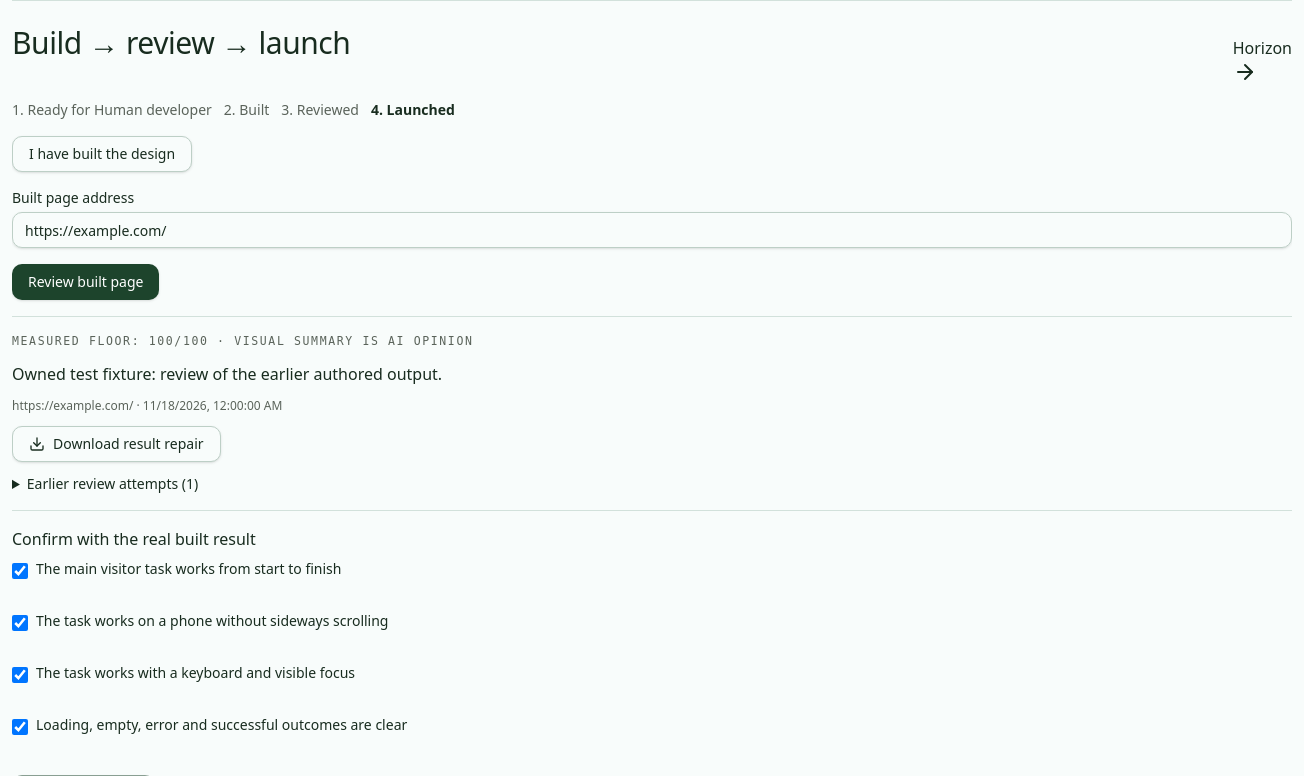
authored content-flow evidence boundary › records that same successful critique response when the output identity stays current
Click the button "Review built page" at coordinates (86, 282), box x1=12 y1=264 x2=160 y2=300
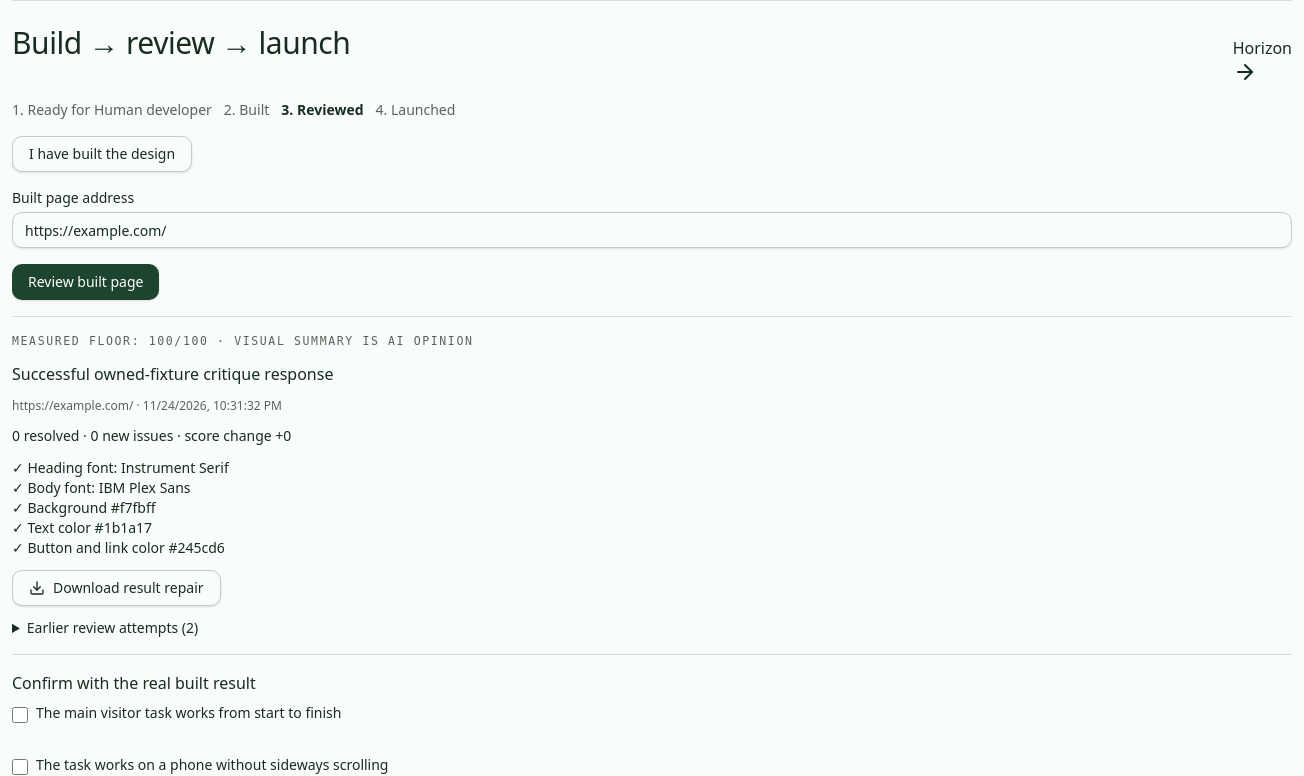
expect the text "Successful owned-fixture critique response" is shown: met, box x1=12 y1=363 x2=334 y2=385
